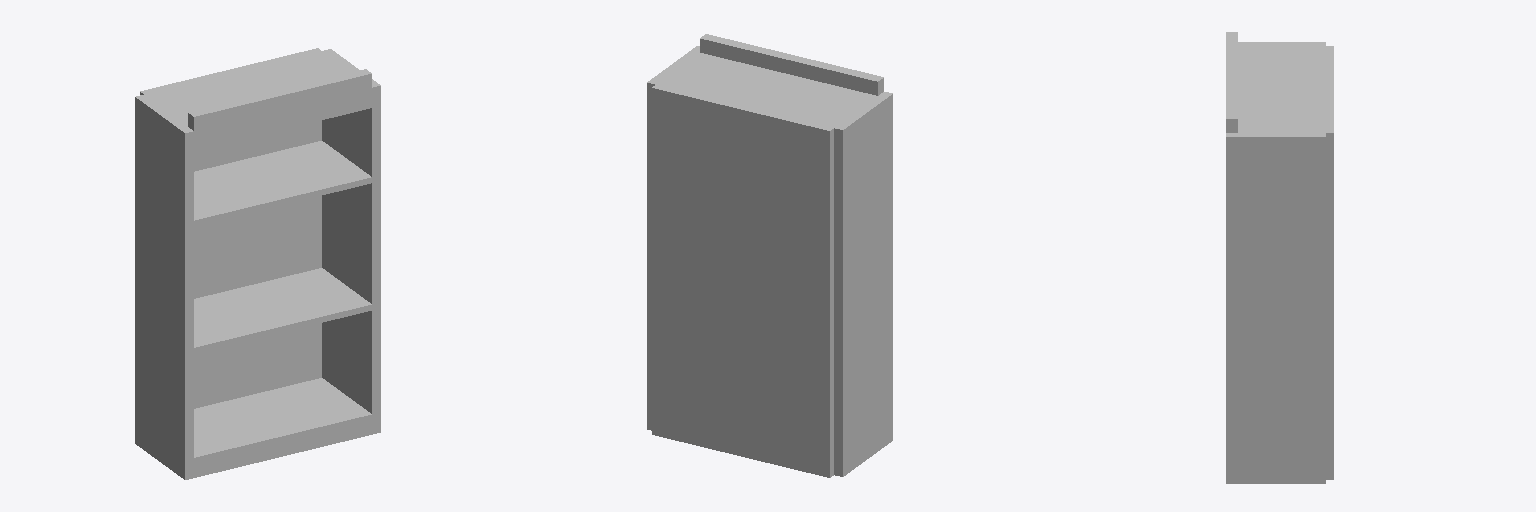
The model's file is Bookshelf.obj.
3 renders of one model, left to right at view 1: azimuth 30°, elevation 25°; view 2: azimuth 150°, elevation 25°; view 3: azimuth 270°, elevation 25°, orthographic.
Parts seen in each view (by area): view 1: none; view 2: none; view 3: none.
Part boxes in pixels (bbox=[...]): none: bbox=[135, 48, 380, 479]; none: bbox=[647, 34, 892, 477]; none: bbox=[1226, 32, 1333, 483].
Size of the model in its own units: 2.71 by 4.77 by 1.3.